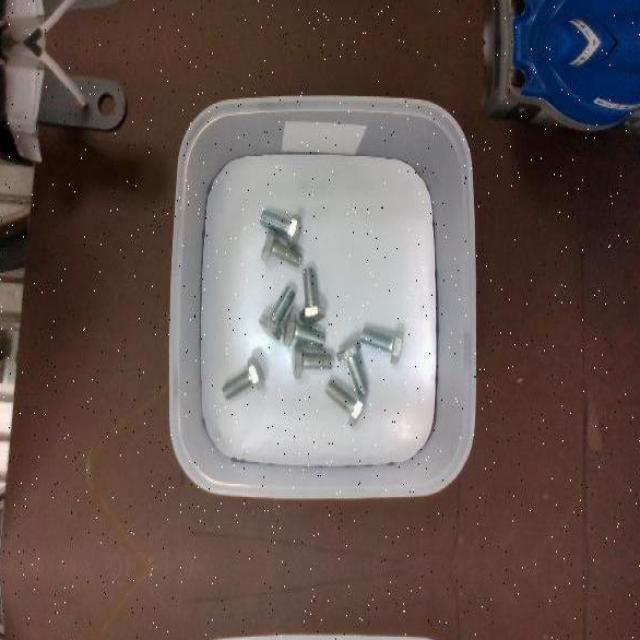screw: (324, 380, 366, 428), (259, 286, 295, 340), (336, 339, 368, 398), (222, 356, 264, 400), (359, 327, 403, 364), (261, 228, 301, 268), (259, 209, 300, 246), (283, 310, 324, 347), (293, 343, 333, 378), (300, 266, 324, 324)
